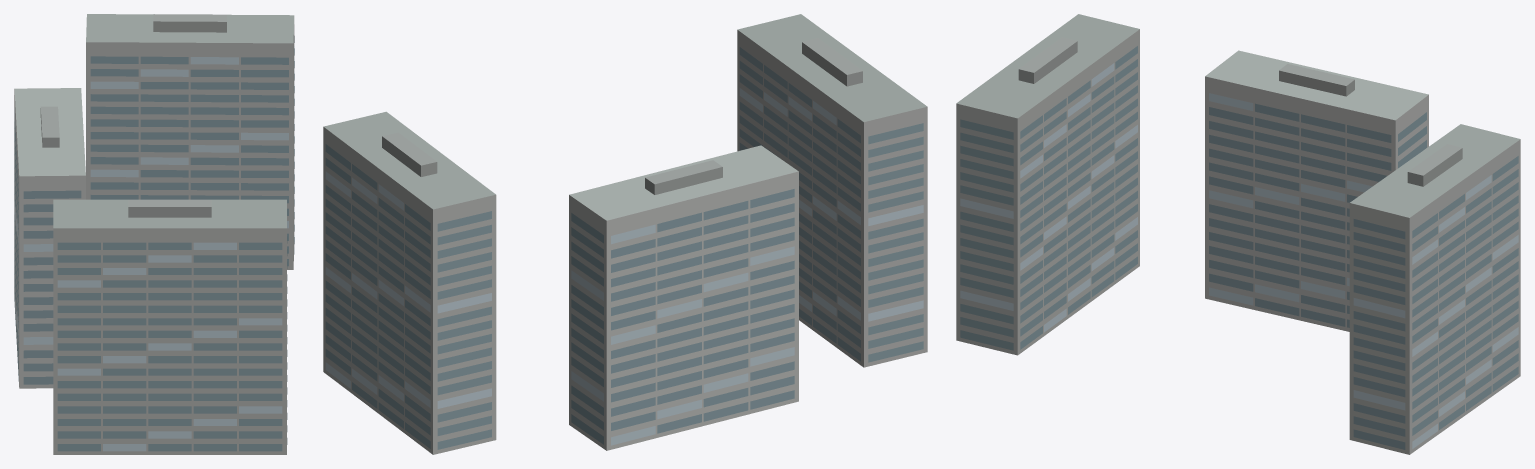
The model's file is apt-a15704017.glb.
3 views of the same model, side by side, from view 1: azimuth 30°, elevation 25°; view 2: azimuth 150°, elevation 25°; view 3: azimuth 270°, elevation 25° (orthographic). The views are drawn at different scales.
Parts seen in each view (by area): view 1: apt-a15704017; view 2: apt-a15704017; view 3: apt-a15704017.
Part boxes in pixels (box(x1,y1,x2,y2)): apt-a15704017: box(14, 14, 294, 454); apt-a15704017: box(323, 14, 927, 454); apt-a15704017: box(956, 14, 1520, 454).
Size of the model in its own units: 84.6 by 48 by 98.96.
